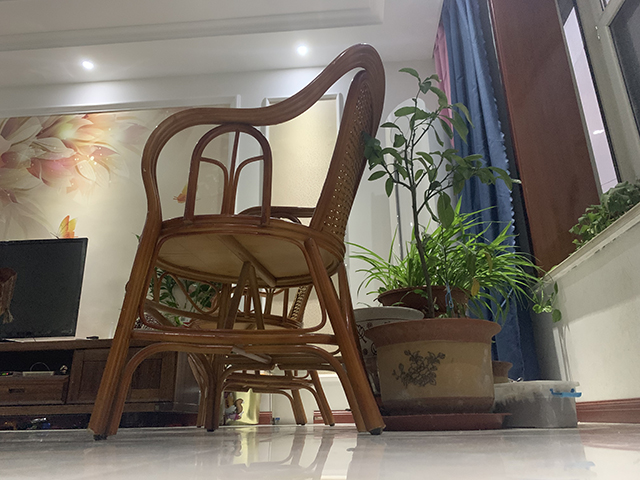cabinet: (1, 334, 201, 429)
stool: (86, 41, 387, 440)
